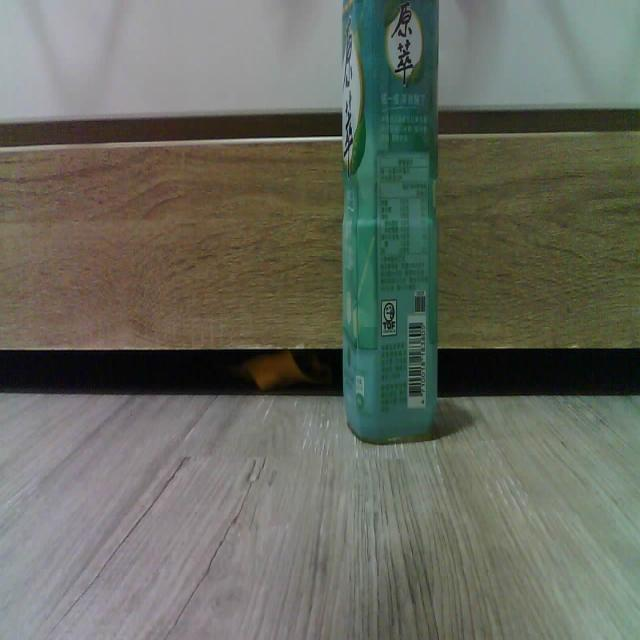bottle: (340, 0, 438, 441)
